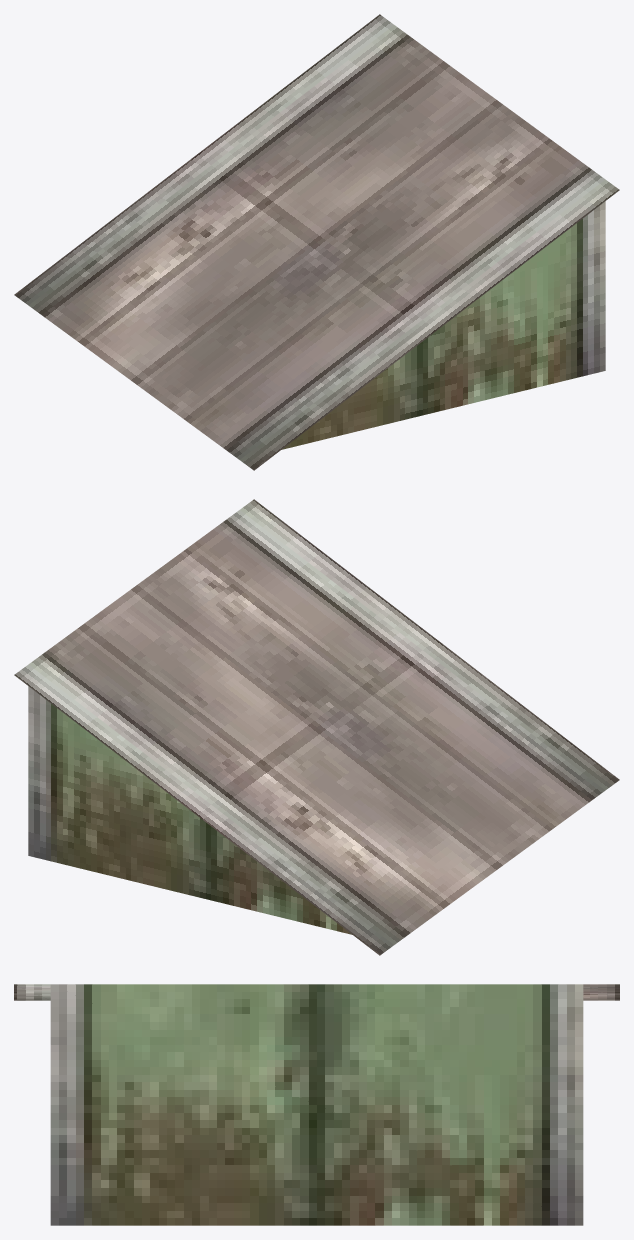
The model's file is kenney-retro-urban-wall-b-roof-slant-detailed.glb.
3 views of the same model, one above another, from view 1: azimuth 30°, elevation 25°; view 2: azimuth 150°, elevation 25°; view 3: azimuth 270°, elevation 25° (orthographic). The views are drawn at different scales.
Visible parts, largest first — view 1: wall-b-roof-slant-detailed; view 2: wall-b-roof-slant-detailed; view 3: wall-b-roof-slant-detailed.
Boxes of the visible parts, <box> form: wall-b-roof-slant-detailed: <box>14,14,619,470</box>; wall-b-roof-slant-detailed: <box>14,499,619,955</box>; wall-b-roof-slant-detailed: <box>14,984,619,1225</box>.
Bounding box in the file's own units: 1 × 0.5001 × 1.14.
Materials: 3 (3 with a texture image).
